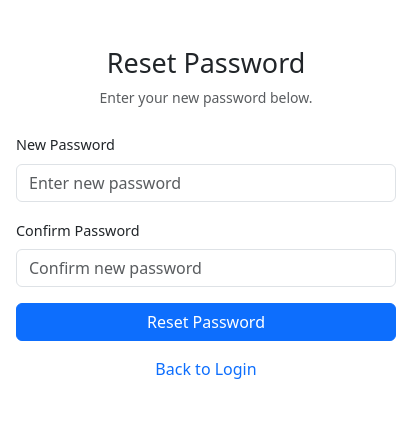
ResetPasswordPage › should successfully reset password
This screenshot has width=413, height=432.
Type "NewPass123!" into the password field with placeholder "Enter new password" at (206, 183), box x1=16 y1=164 x2=396 y2=202
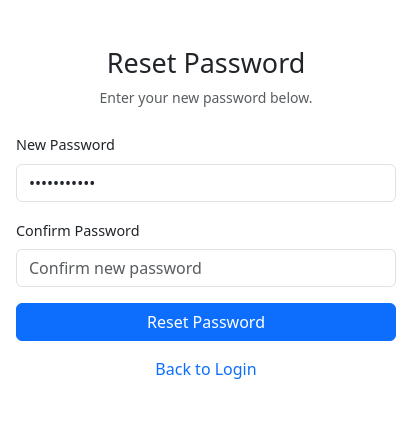
Type "NewPass123!" into the password field with placeholder "Confirm new password" at (206, 268), box x1=16 y1=249 x2=396 y2=287
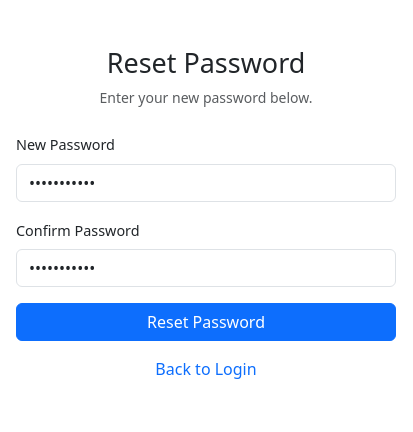
Click the button "Reset Password" at (206, 322), box x1=16 y1=303 x2=396 y2=341
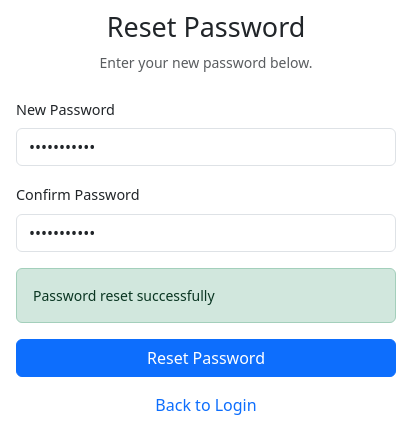
Expected: the text "Password reset successfully" is shown, x1=16 y1=268 x2=396 y2=323
